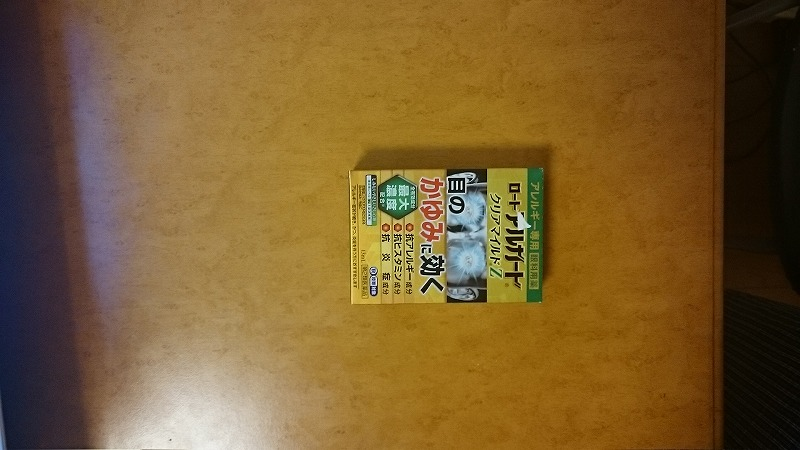C: (337, 161, 552, 318)
